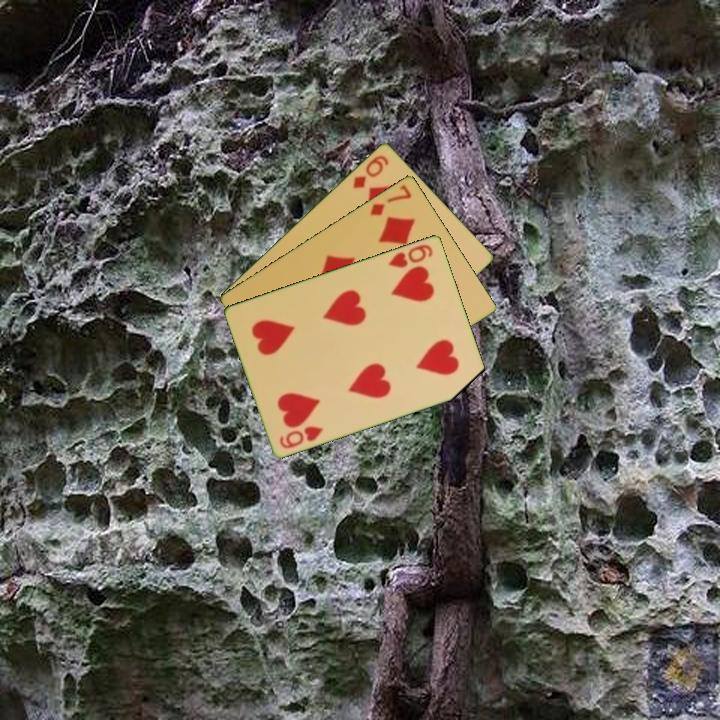6d: (349, 151, 392, 191)
6h: (385, 240, 436, 271), (276, 422, 326, 451)
7d: (366, 180, 415, 218)
